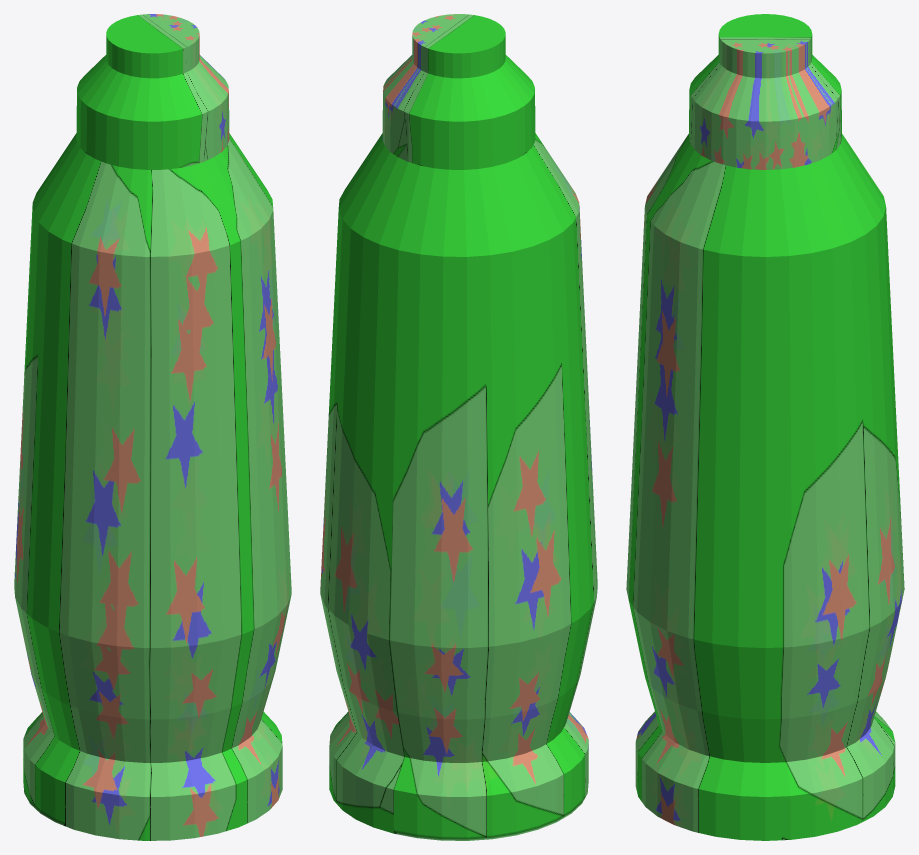
Rendered from PlasticBottle.fbx.
3 renders of one model, left to right at view 1: azimuth 30°, elevation 25°; view 2: azimuth 150°, elevation 25°; view 3: azimuth 270°, elevation 25°, orthographic.
Visible parts, largest first — view 1: Cylinder; view 2: Cylinder; view 3: Cylinder.
Part boxes in pixels (x1,y1,x2,y2): Cylinder: (14,14,291,840); Cylinder: (320,14,597,840); Cylinder: (626,14,904,840).
Size of the model in its own units: 11.17 by 33.35 by 11.17.
